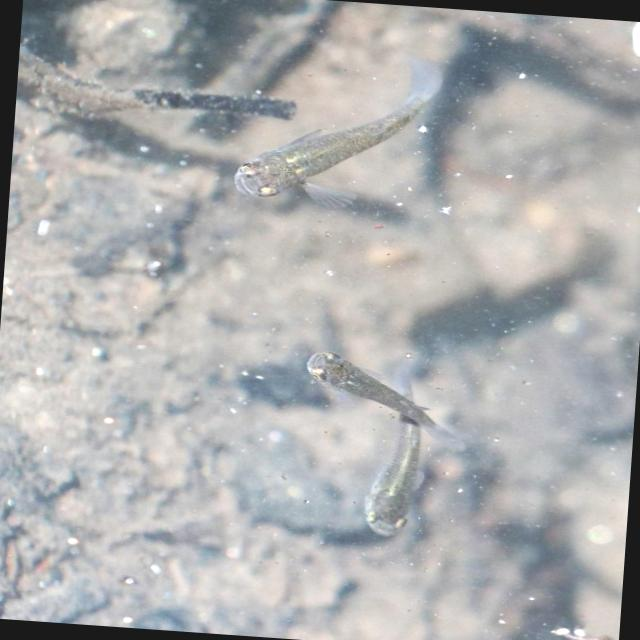Sivrisinek Baligi: (213, 38, 462, 242), (283, 343, 477, 455), (356, 352, 436, 556)
